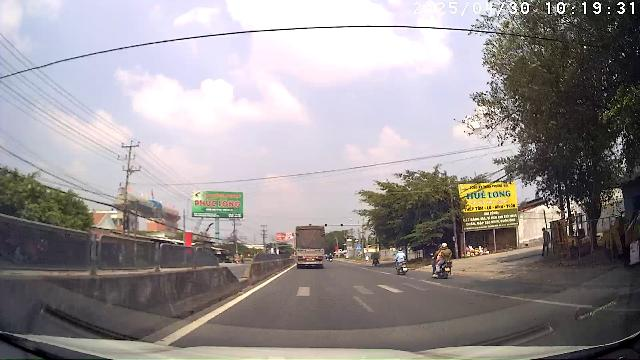423a-duong-nguoi-di-bo-sang-ngang-1: (356, 244, 362, 250)
